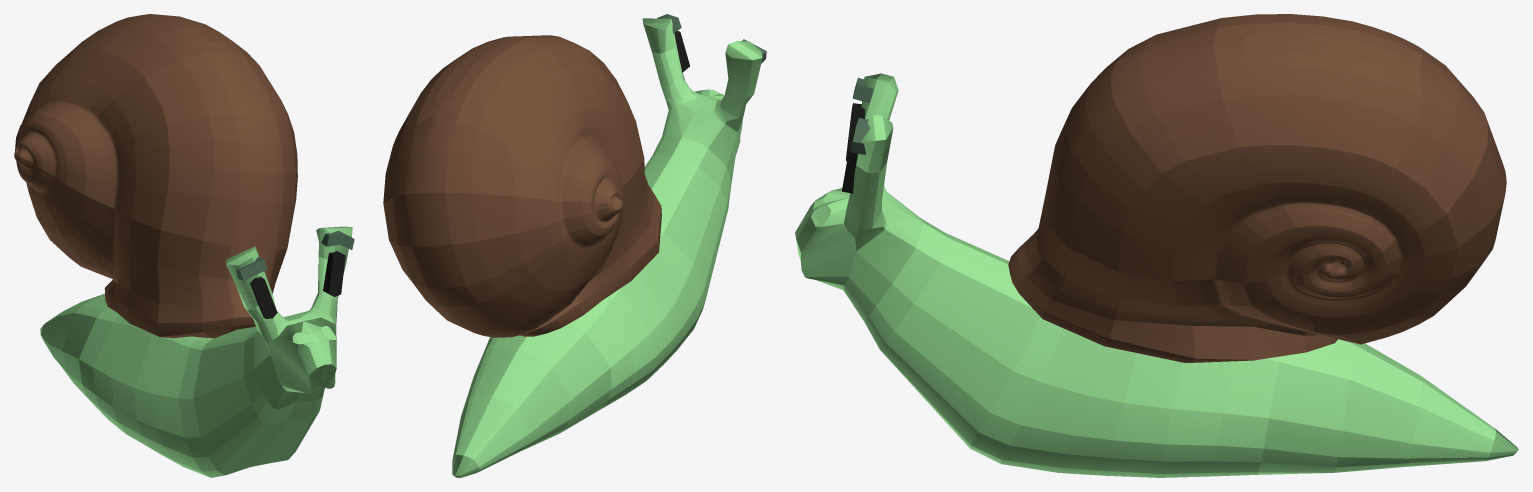
File: Snail.fbx
3 renders of one model, left to right at view 1: azimuth 30°, elevation 25°; view 2: azimuth 150°, elevation 25°; view 3: azimuth 270°, elevation 25°, orthographic. The views are drawn at different scales.
Visible parts, largest first — view 1: pCube5; view 2: pCube5; view 3: pCube5.
Part boxes in pixels (<box>): pCube5: <box>14,14,354,477</box>; pCube5: <box>383,14,766,477</box>; pCube5: <box>795,14,1518,477</box>.
Bounding box in the file's own units: 4.09 × 6.55 × 9.23.
